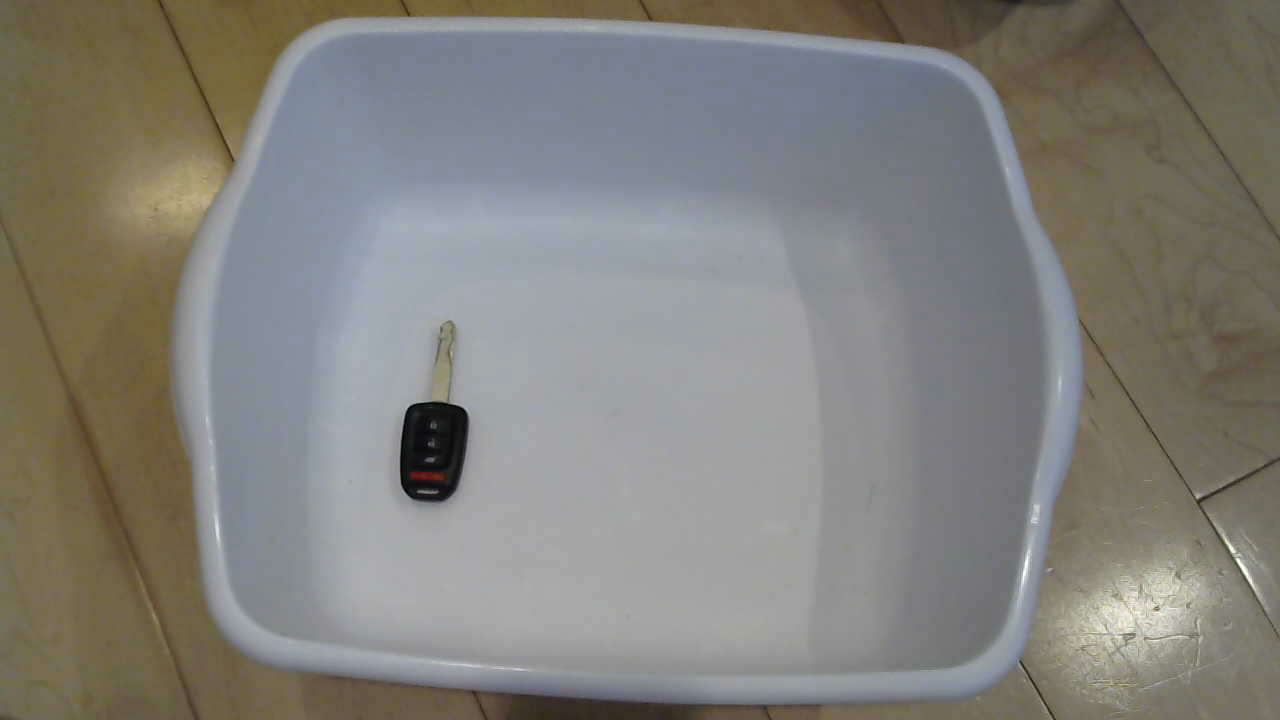key: (380, 307, 504, 512)
